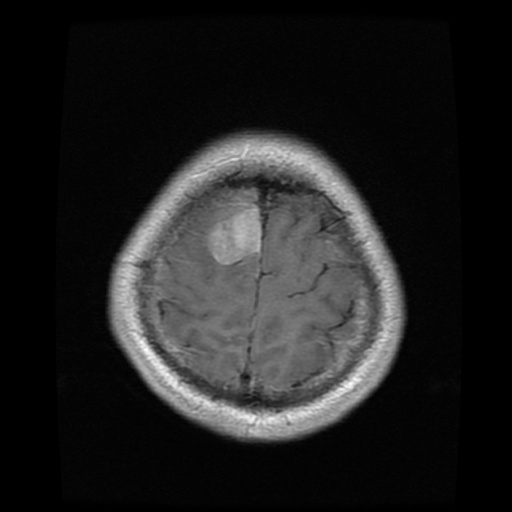meningioma: (206, 205, 263, 265)
